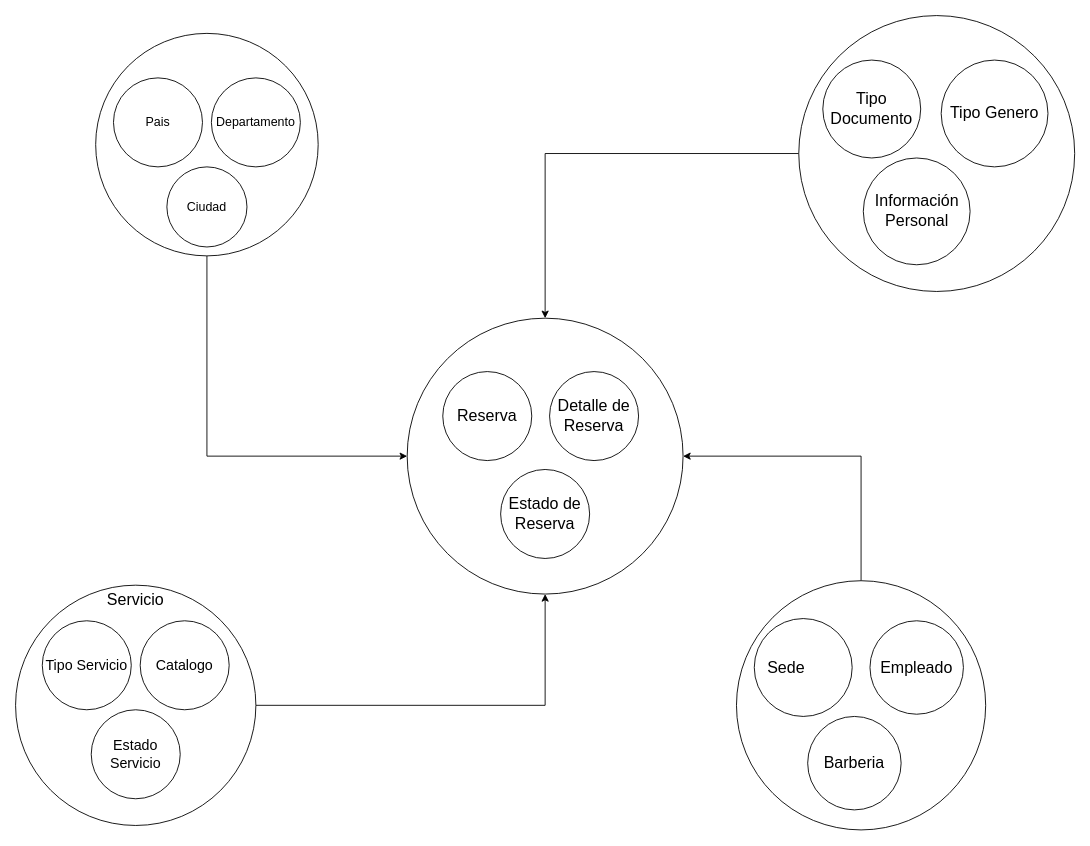
Some shapes in this 1090 by 846 pixel diagram are drawn without their labels. The box of each missing label's shape, as (x1, y1, x2, y2) in pixels:
Cliente: (798, 15, 1075, 291)
Contrato: (406, 317, 683, 594)
Empresa: (736, 580, 986, 830)
Geografifia: (95, 32, 318, 256)
